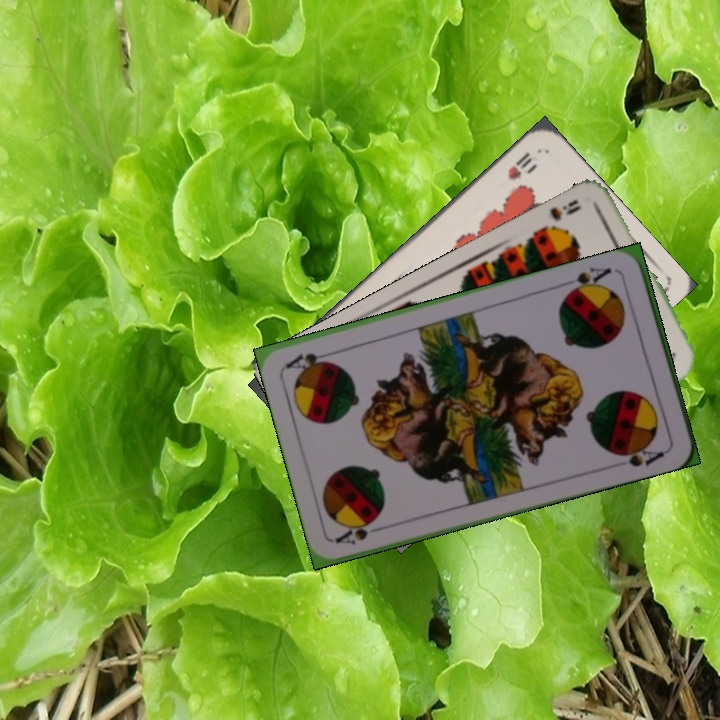H10: (503, 148, 541, 183)
S9: (535, 195, 584, 237)
SA: (331, 515, 390, 548), (562, 263, 614, 296)
